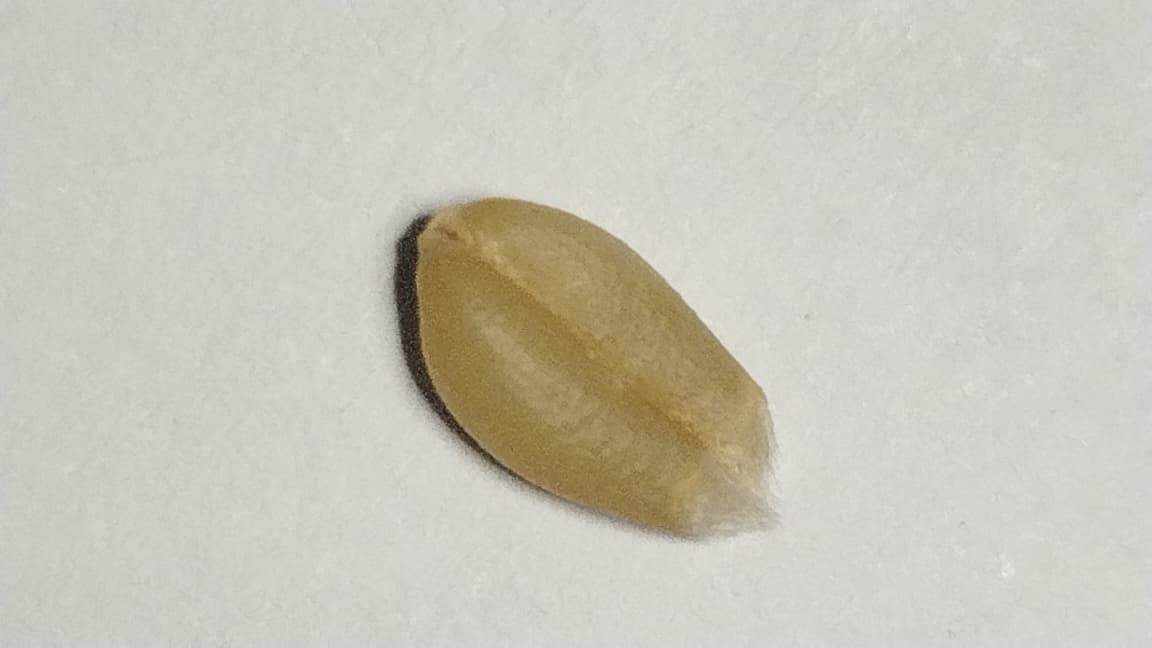healthy: (418, 198, 772, 529)
